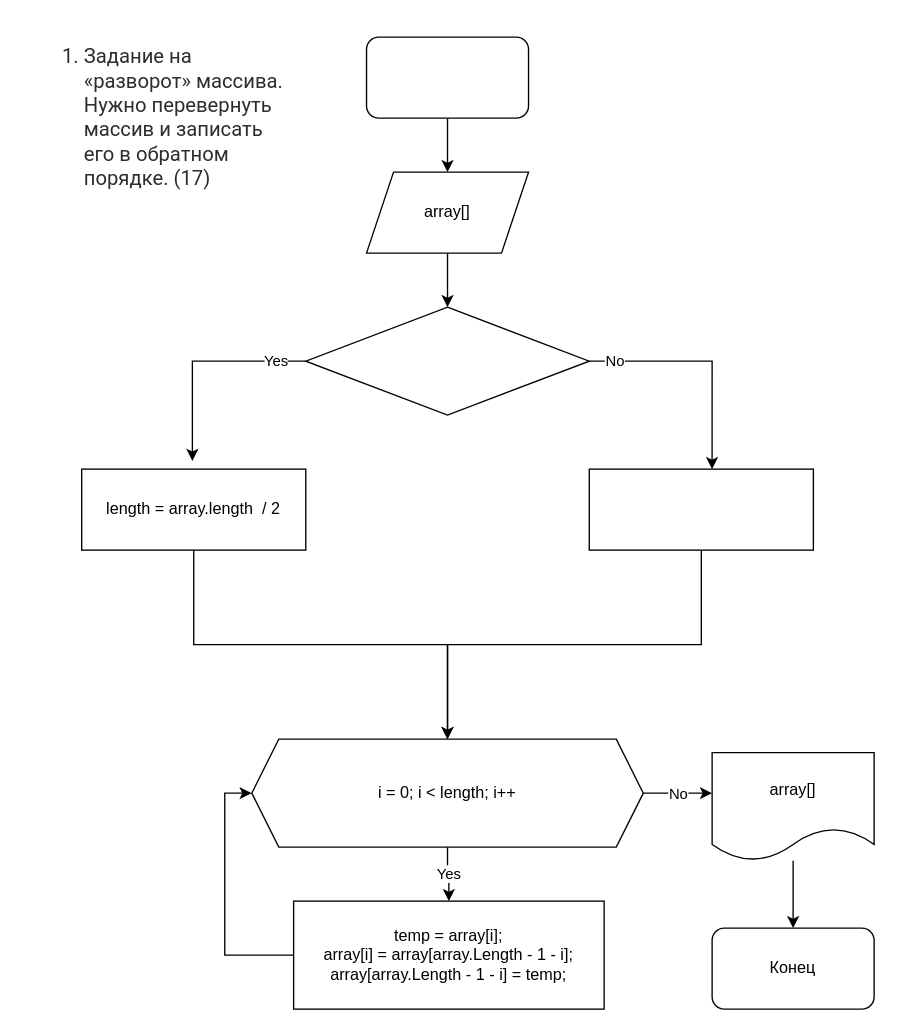
Some shapes in this 898 by 1033 pixel diagram are drawn without their labels. The centre of each missing label's shape, as x and y in pixels:
array.length % 2 == 0: the point at 446,360
length = (array.length - 1) / 2: the point at 700,509
Старт: the point at 447,77
